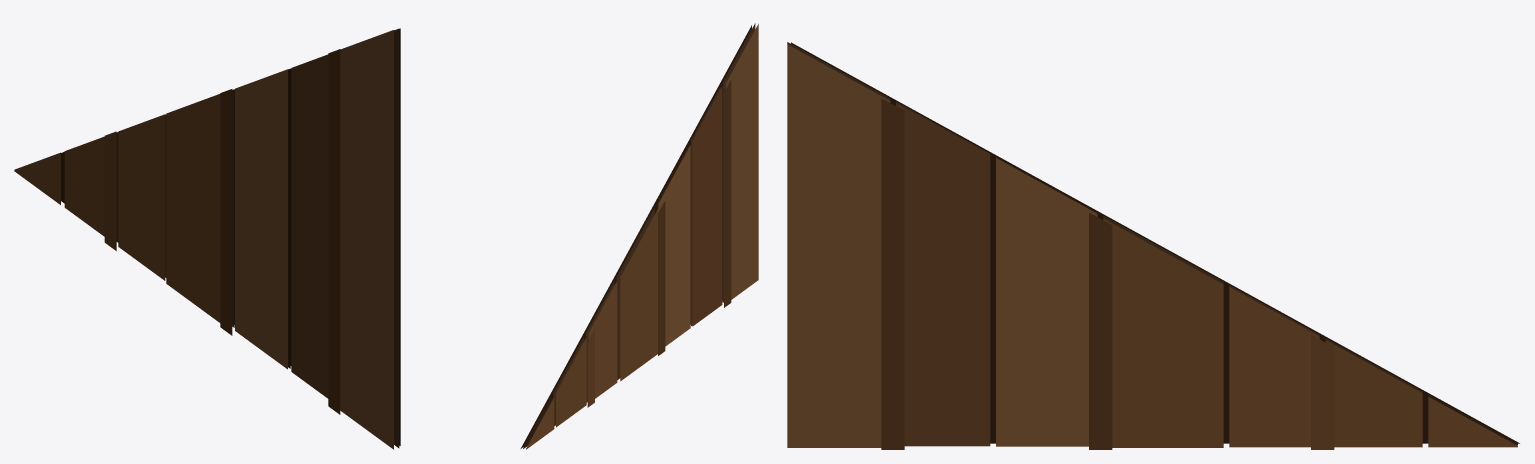
Rendered from wall-timber-gable-l.glb.
3 renders of one model, left to right at view 1: azimuth 30°, elevation 25°; view 2: azimuth 150°, elevation 25°; view 3: azimuth 270°, elevation 25°, orthographic. The views are drawn at different scales.
Visible parts, largest first — view 1: wall-timber-gable-l; view 2: wall-timber-gable-l; view 3: wall-timber-gable-l.
Part boxes in pixels (<box>): wall-timber-gable-l: <box>14,28,400,449</box>; wall-timber-gable-l: <box>520,23,758,449</box>; wall-timber-gable-l: <box>787,42,1519,449</box>.
Bounding box in the file's own units: 0.112 × 0.6102 × 1.01.
